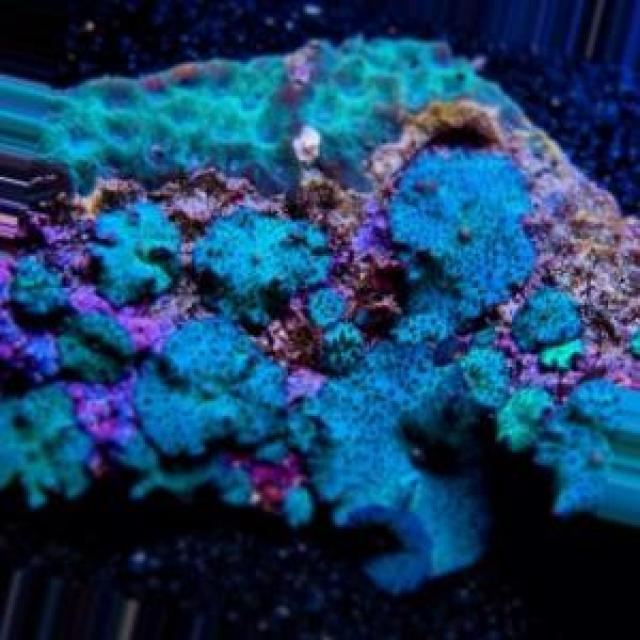healthy coral: (59, 42, 640, 593)
